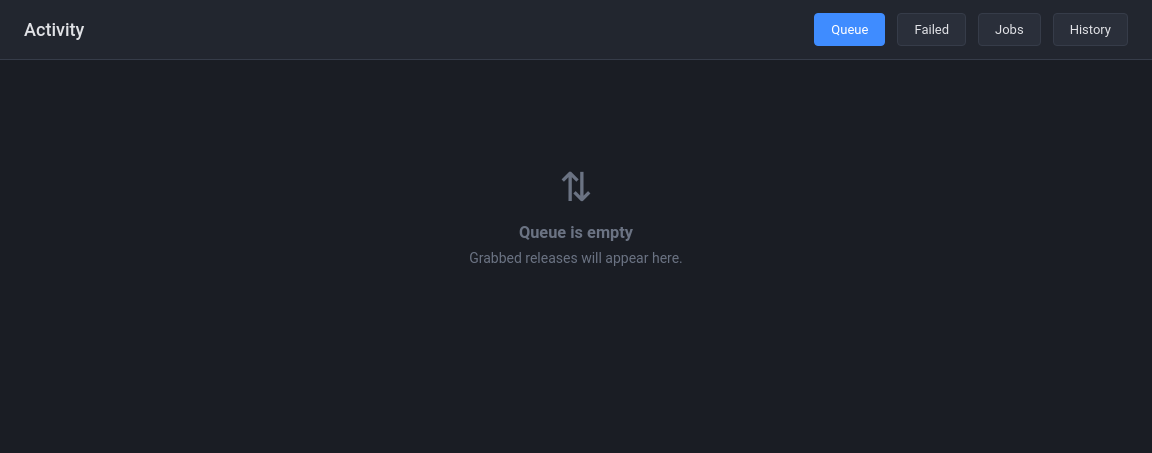
history filters stay usable when the selected filter is empty
Click the button "History" at (1090,30), box [1053,13,1128,46]
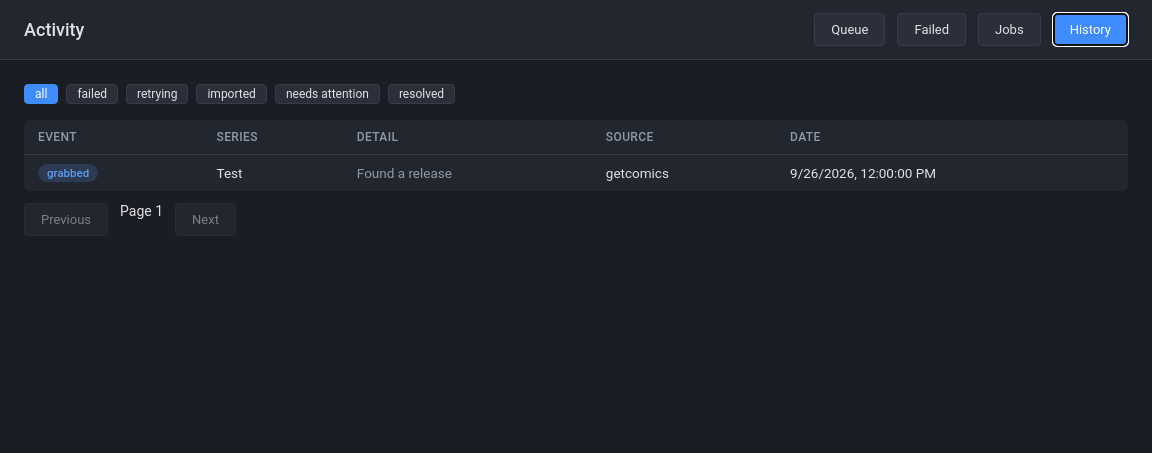
Result: the text "Found a release" is shown at [343,154,592,191]
Click the button "failed" at (92,94), box [66,84,118,104]
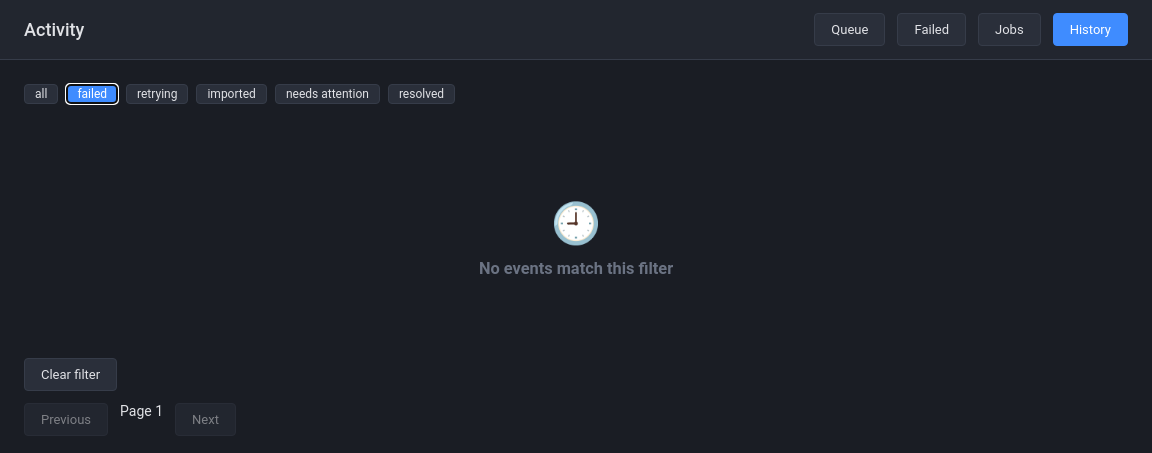
Result: the button "all" is shown at [24,84,58,104]
Result: the heading "No events match this filter" is shown at [479,259,673,278]
Click the button "Clear filter" at (71,374), box [24,358,117,391]
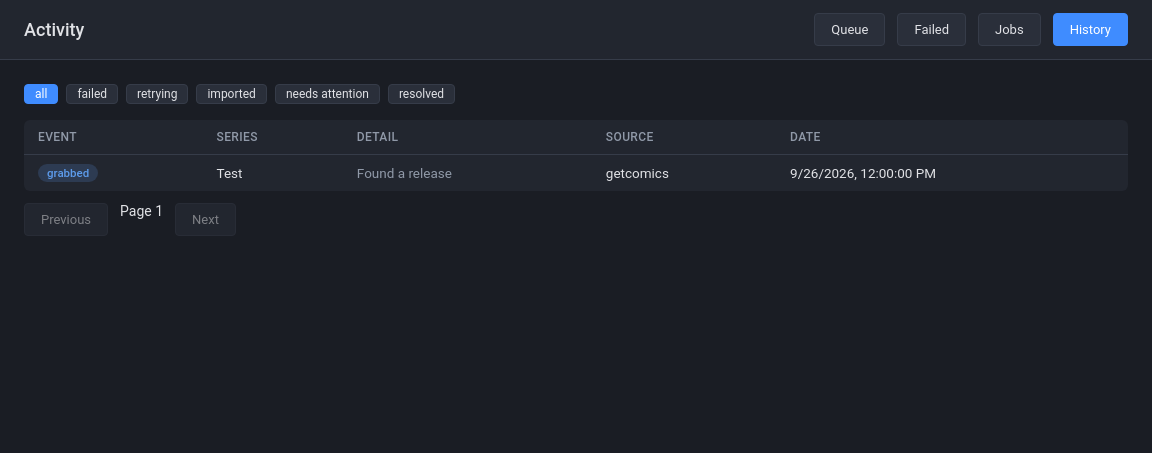
Result: the text "Found a release" is shown at [343,154,592,191]
